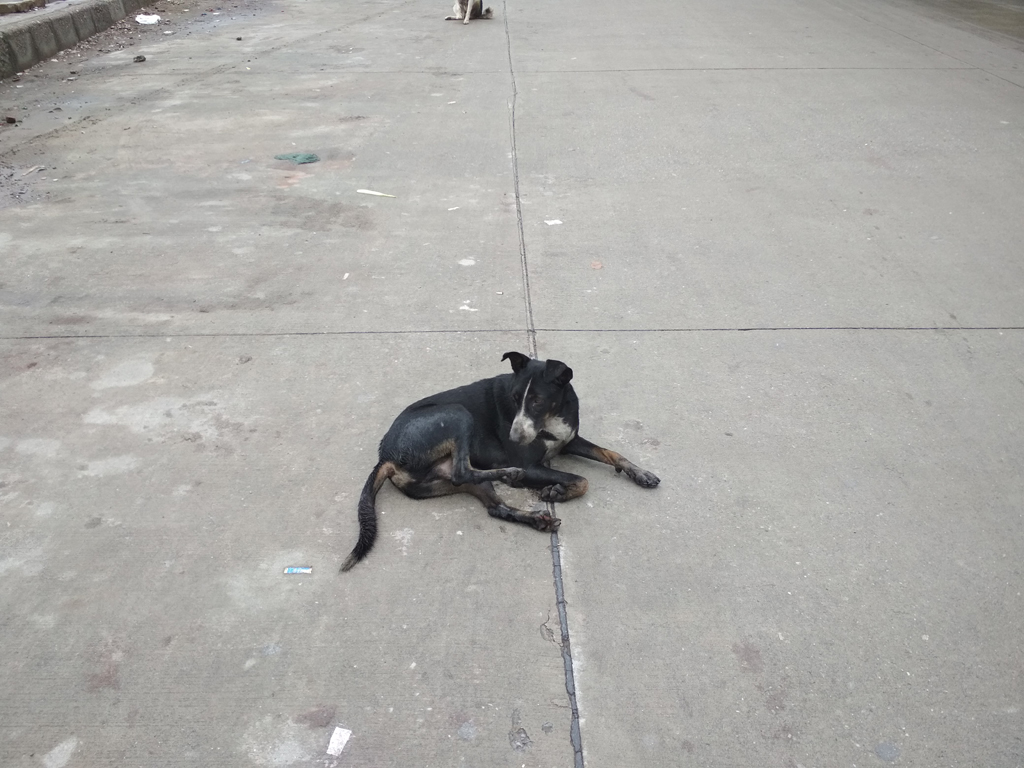dog: (341, 352, 660, 569)
